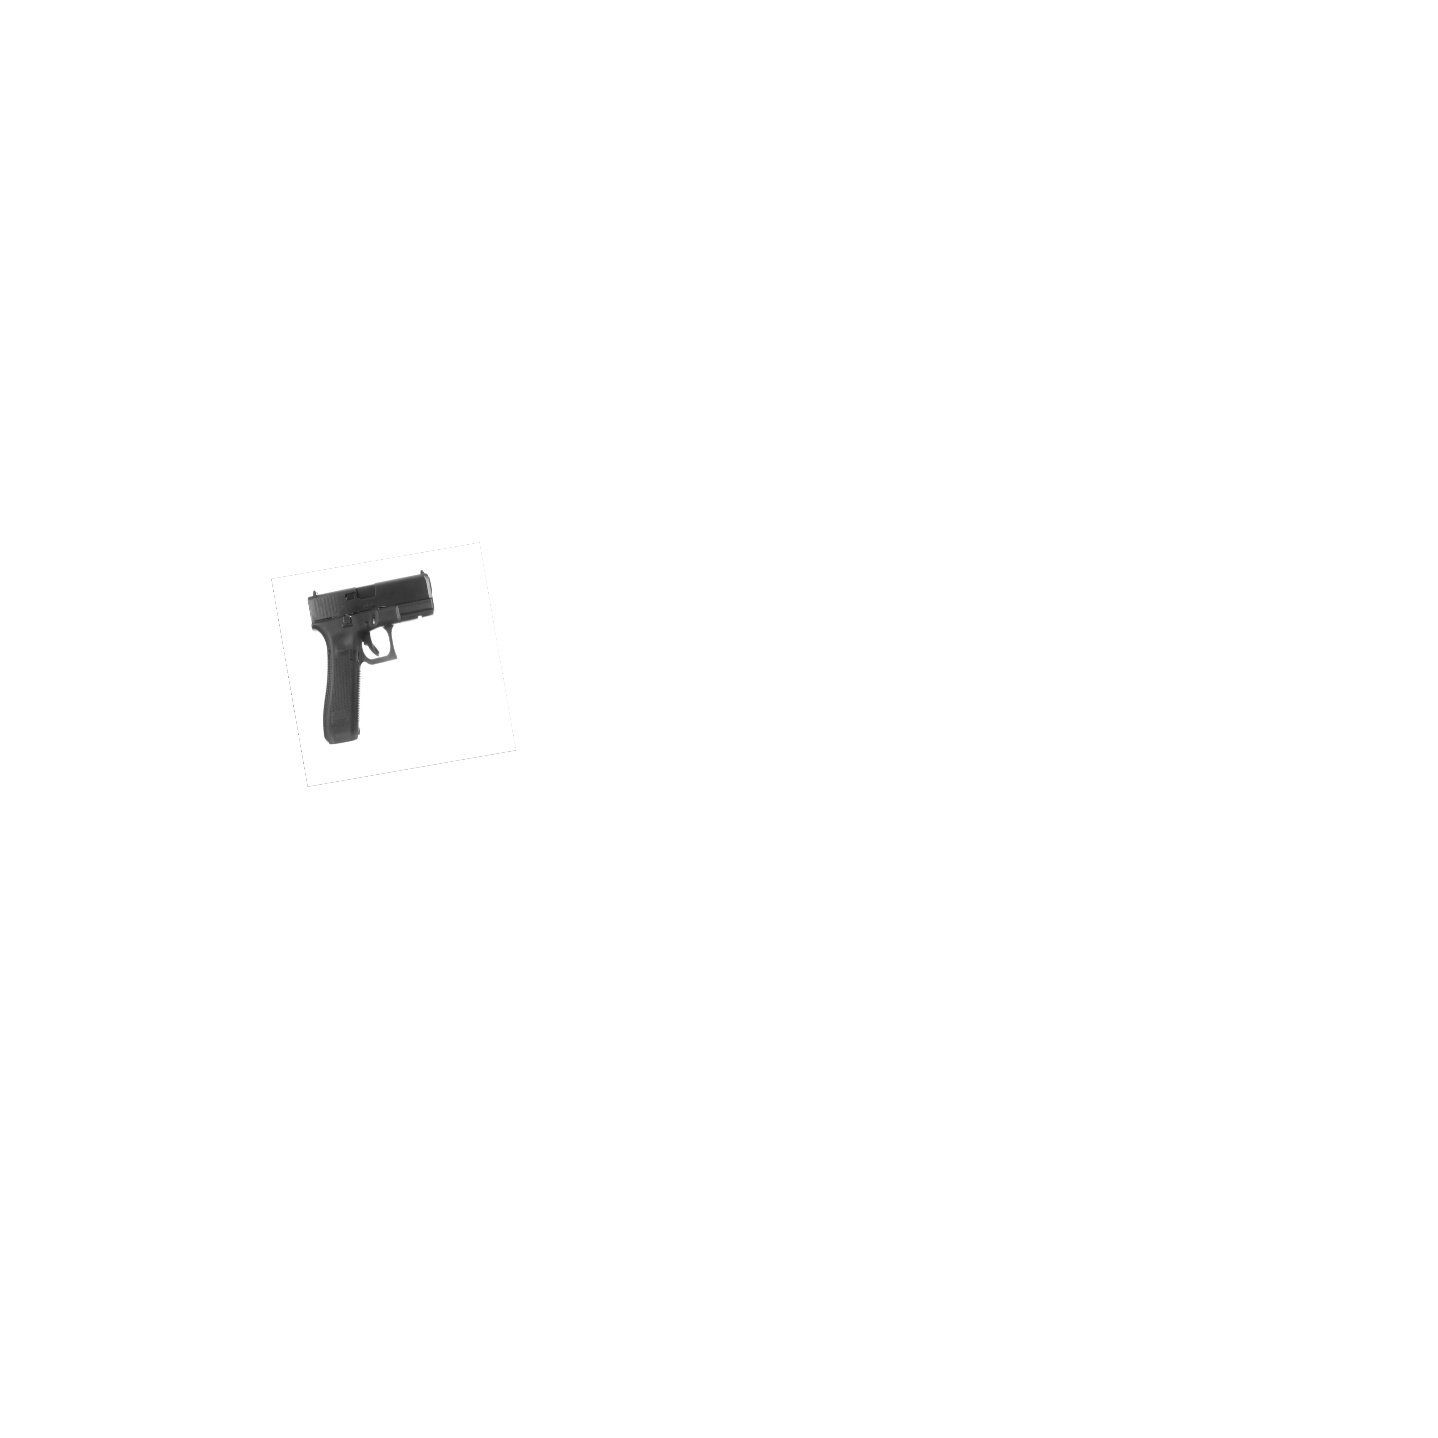gun: (307, 570, 435, 745)
